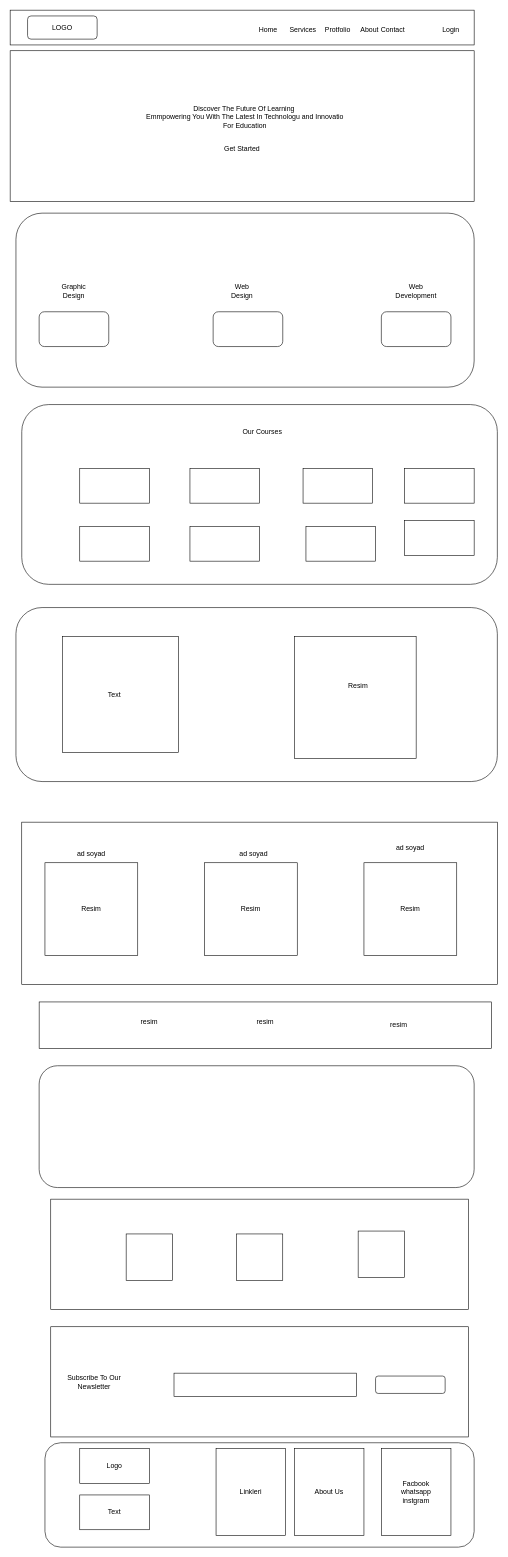
Some shapes in this 508 by 1557 pixel diagram are drawn without their labels. The shapes that lost their labels are listed below. From the top down, each one's centre as x and y in pixels, then its label:
(x=256, y=1126): Cumle
(x=265, y=1384): Your Email : .................
(x=410, y=1384): Subscrribe
